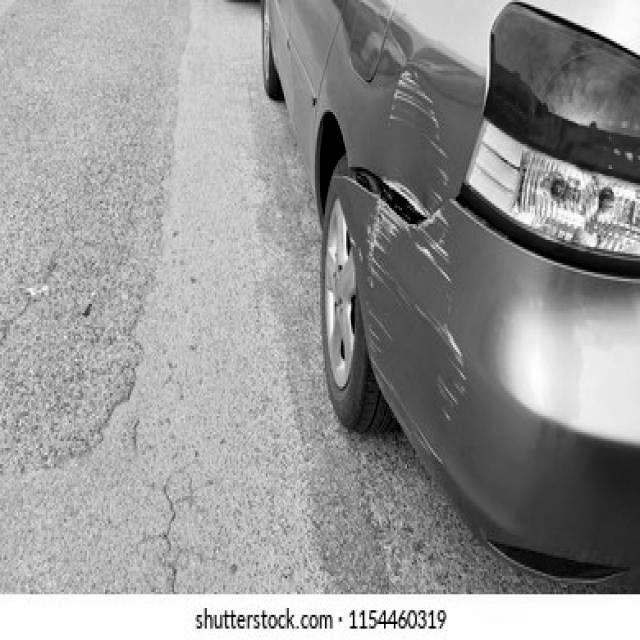quaterpanel-dent: (314, 0, 467, 220)
rear-bumper-dent: (338, 198, 638, 563)
